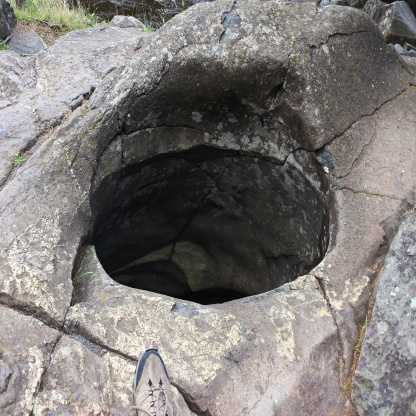pothole: (73, 58, 354, 335)
